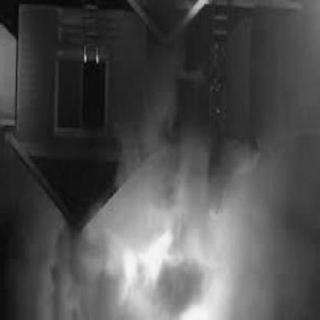Fire: (107, 227, 229, 317)
